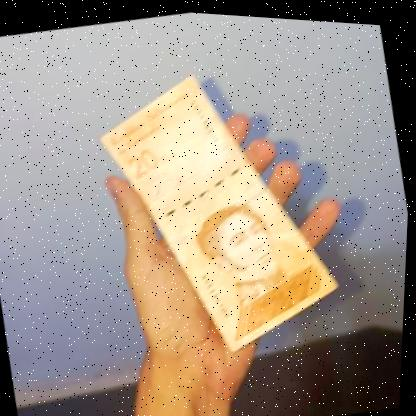twenty-front-vef: (81, 42, 358, 373)
